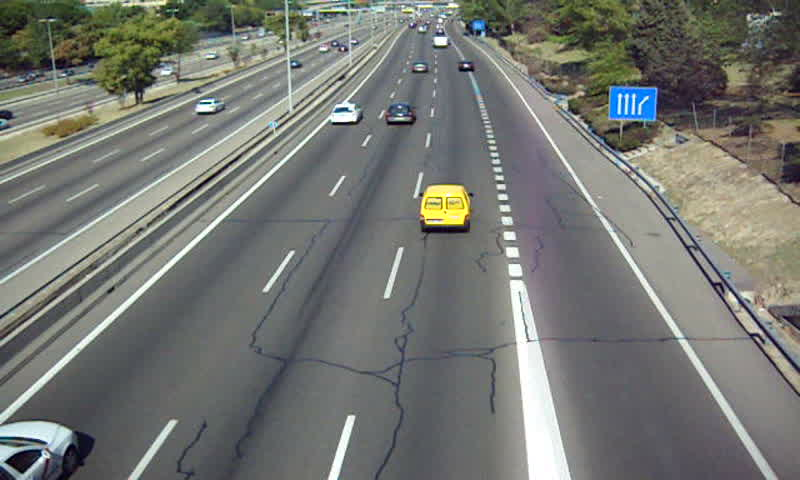car: (384, 103, 416, 127), (330, 103, 362, 124), (458, 59, 476, 73), (411, 62, 429, 76)
van: (420, 185, 471, 231)
